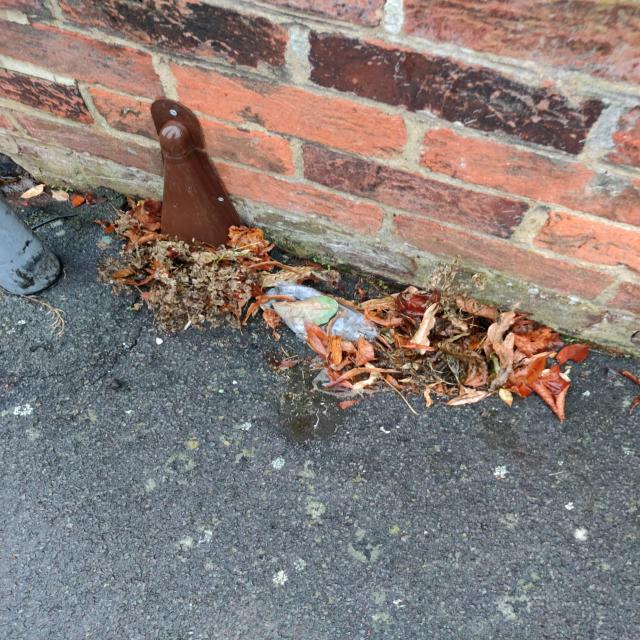litter: (264, 279, 379, 342)
